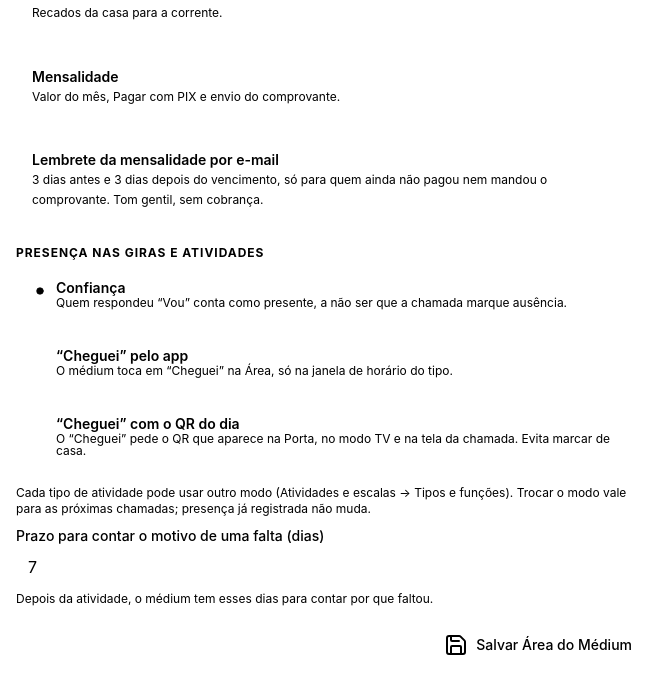
Test case: AreaMediumConfigSection — presença (AM-17/AM-28) › prazo fora de 1 a 30 bloqueia o salvar
(page scrolled)
Replace the text in the number field labelled "Prazo para contar o motivo de uma falta (dias)" with "45" at point(332, 567), box [16,549,648,585]
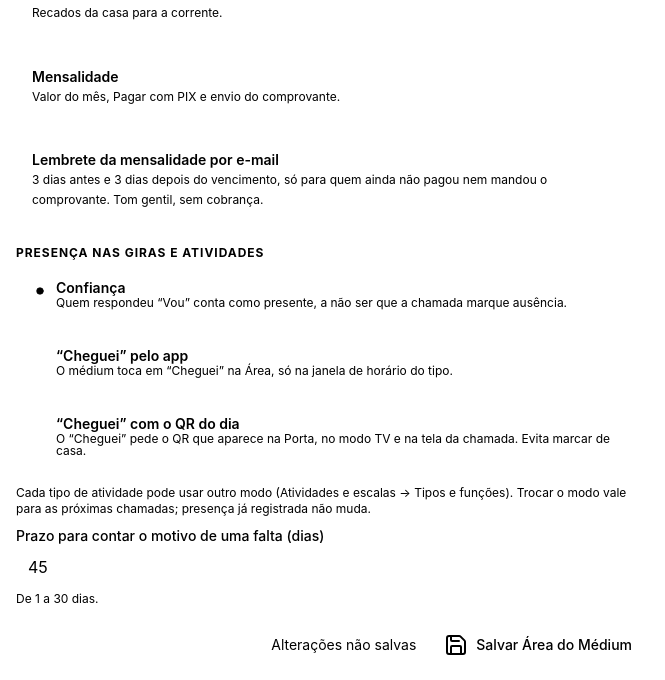
Check: the button "Salvar Área do Médium" is disabled, box [428,627,648,663]
Check: the text "De 1 a 30 dias." is shown, box [16,591,98,606]
